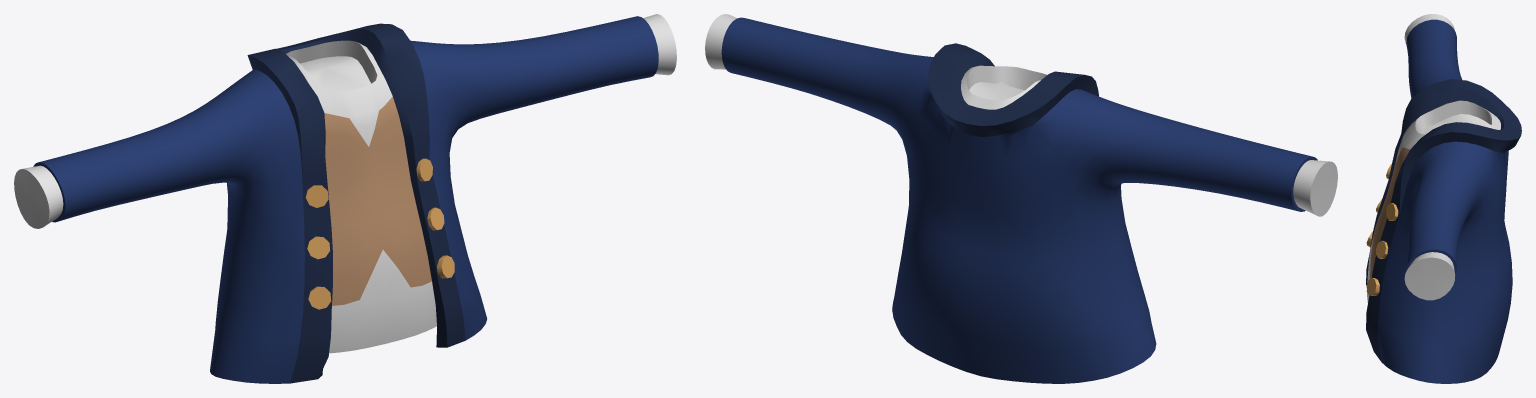
The model's file is 17海盗套装.fbx.
3 renders of one model, left to right at view 1: azimuth 30°, elevation 25°; view 2: azimuth 150°, elevation 25°; view 3: azimuth 270°, elevation 25°, orthographic. The views are drawn at different scales.
Parts seen in each view (by area): view 1: 17海盗套装; view 2: 17海盗套装; view 3: 17海盗套装.
Boxes of the visible parts, x1,y1,x2,y2 form: 17海盗套装: (14, 14, 676, 383); 17海盗套装: (705, 14, 1337, 383); 17海盗套装: (1366, 14, 1521, 383).
Size of the model in its own units: 1.63 by 0.7555 by 0.4413.
